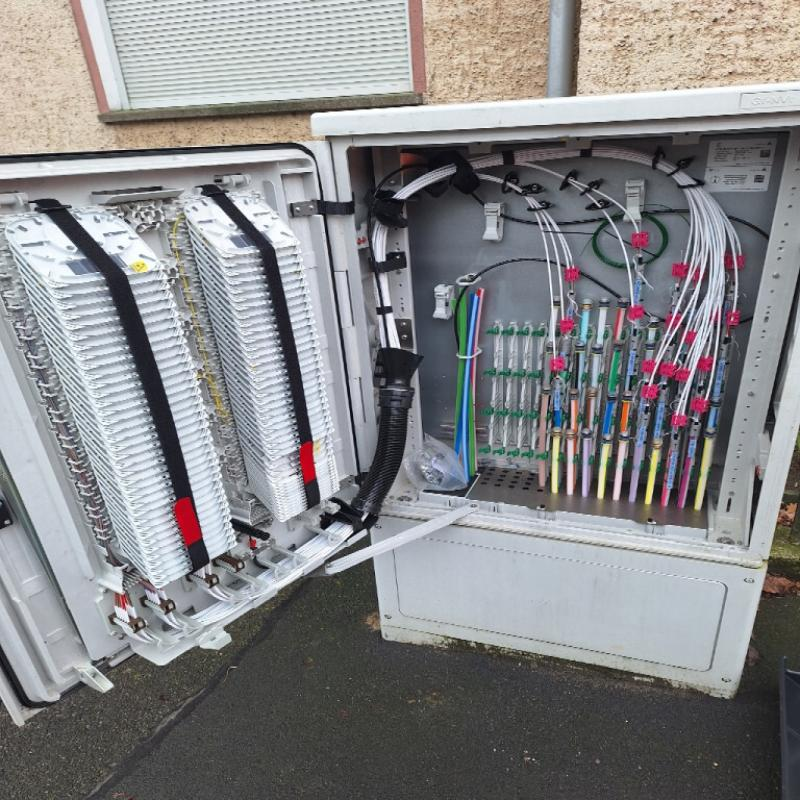NT-Gehause: (0, 81, 800, 722)
Spleiskassetten: (0, 198, 259, 603), (154, 176, 353, 532)
